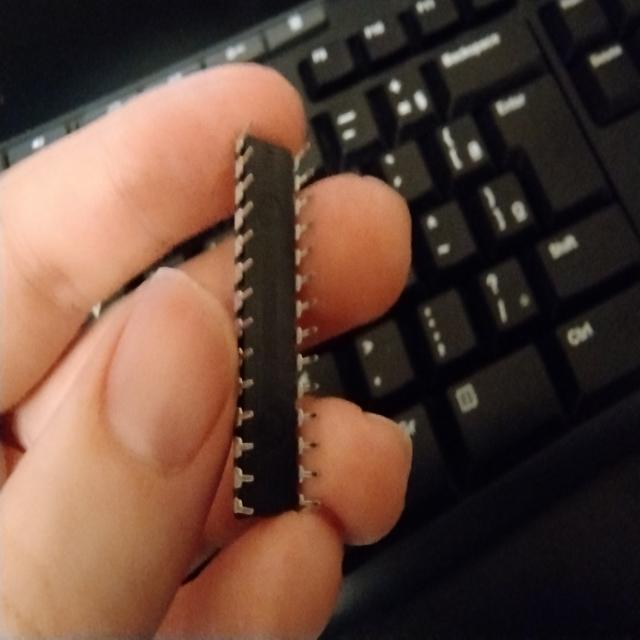atmega: (225, 123, 325, 519)
